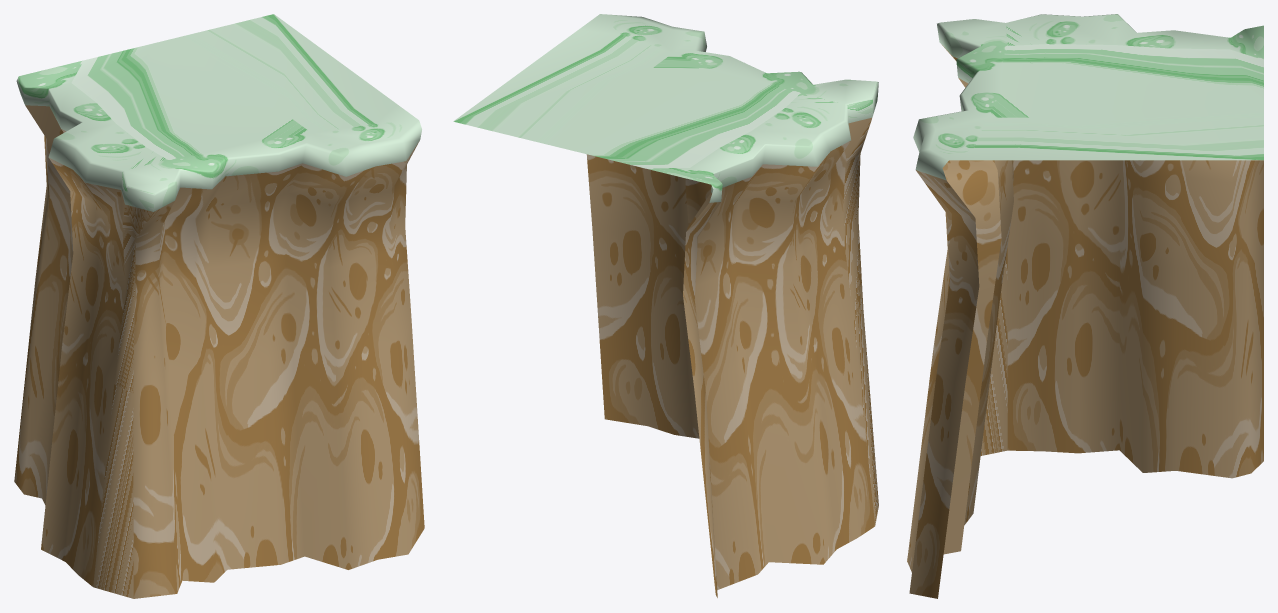
Rendered from SM_tile_corner_01.fbx.
3 views of the same model, side by side, from view 1: azimuth 30°, elevation 25°; view 2: azimuth 150°, elevation 25°; view 3: azimuth 270°, elevation 25° (orthographic). The views are drawn at different scales.
Parts seen in each view (by area): view 1: SM_tile_corner_01; view 2: SM_tile_corner_01; view 3: SM_tile_corner_01.
Boxes of the visible parts, bbox=[...] form: SM_tile_corner_01: bbox=[14, 14, 424, 598]; SM_tile_corner_01: bbox=[453, 14, 878, 597]; SM_tile_corner_01: bbox=[907, 14, 1263, 598].
Bounding box in the file's own units: 1352 × 1782 × 1285.
